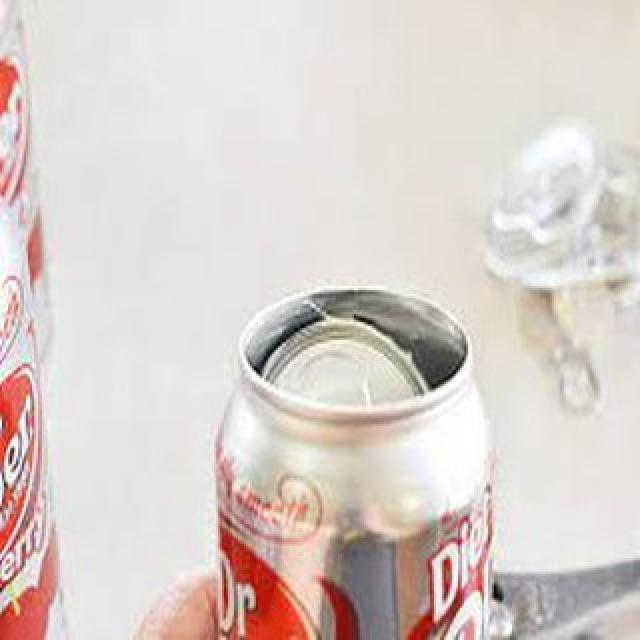Anorganik: (225, 285, 510, 639)
